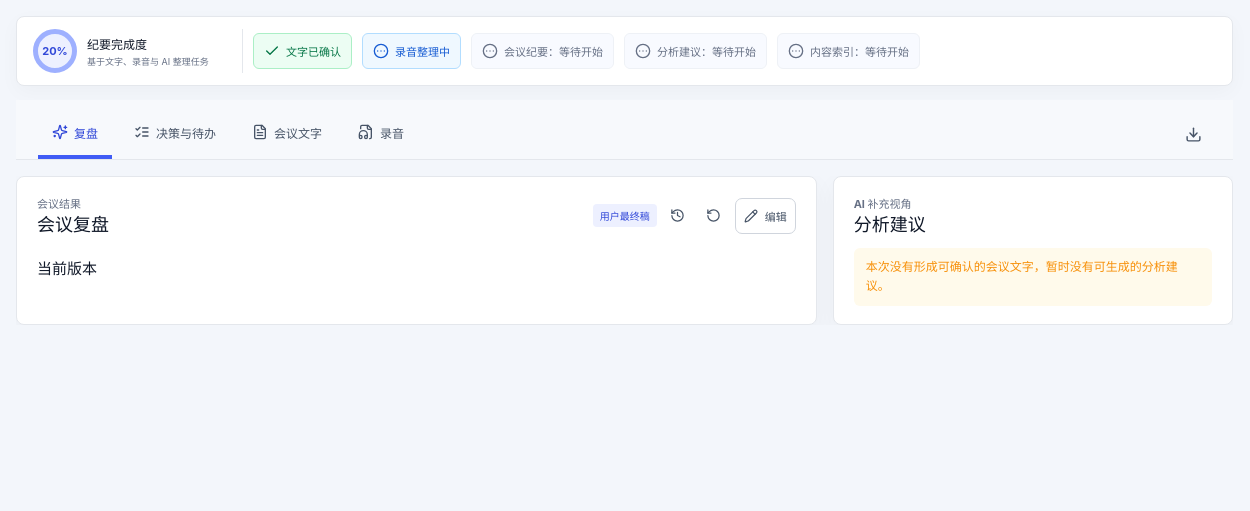
Test: ReviewWorkspace document editing › shows the content of a selected historical revision
The image size is (1250, 511).
Click the button named "查看复盘版本历史" at [678, 216], box [663, 201, 693, 231]
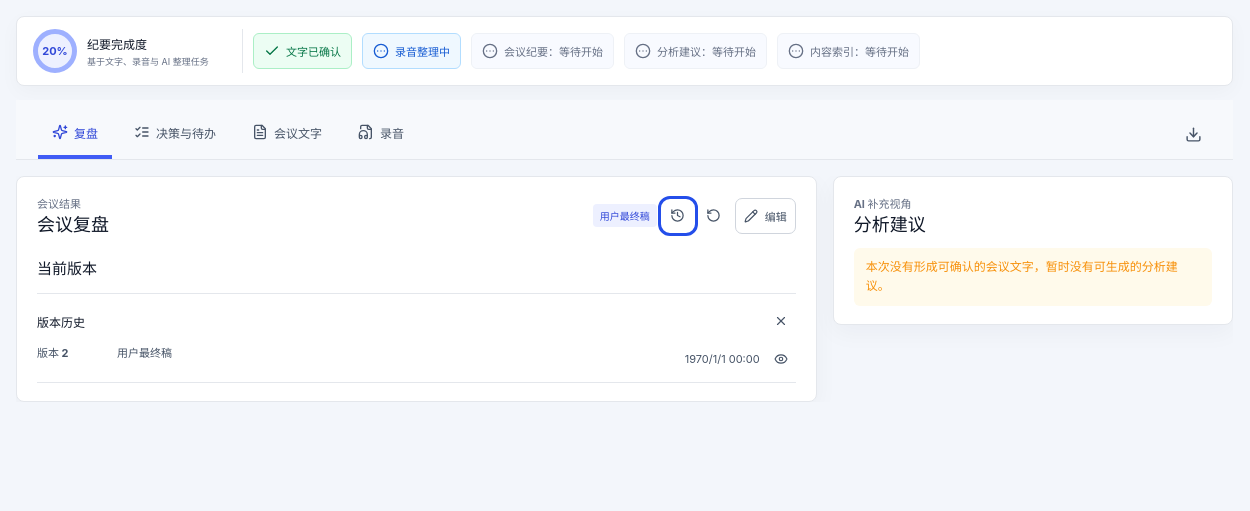
Click the button named "查看版本 2 内容" at [781, 359], box [766, 344, 796, 374]
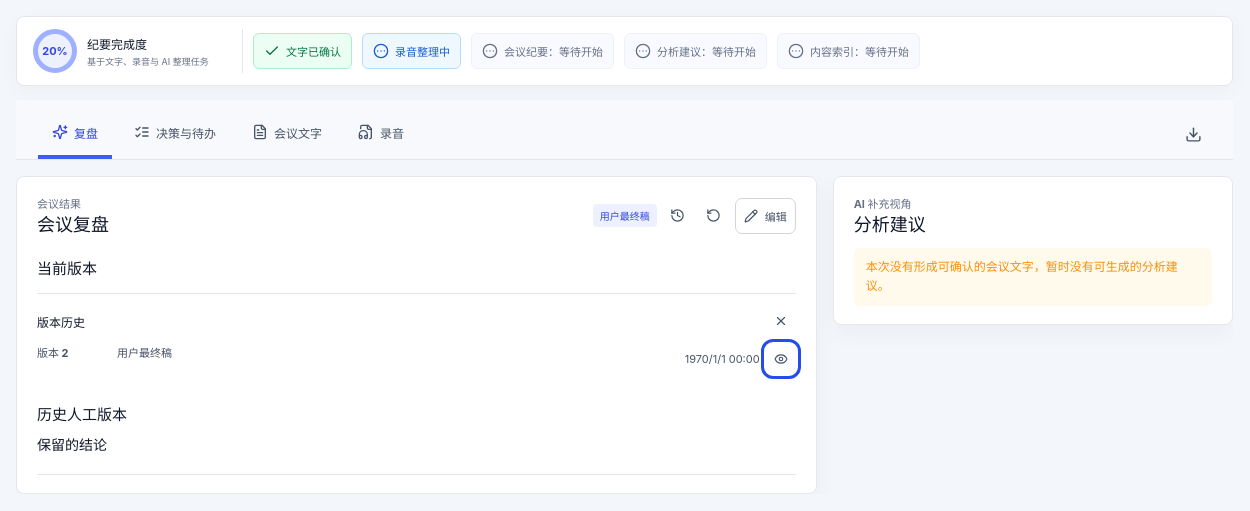
Now the heading "历史人工版本" is shown, box [37, 405, 127, 424]
Now the text "保留的结论" is shown, box [37, 436, 107, 453]
